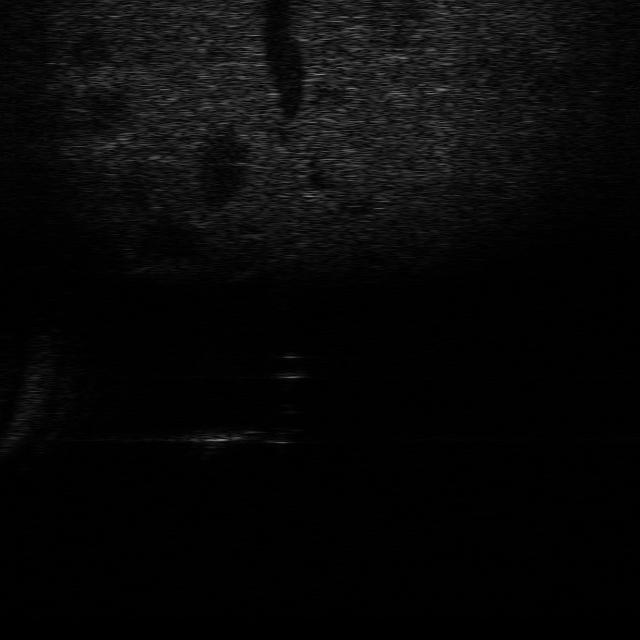ball: (256, 344, 315, 389)
square cage: (170, 421, 266, 459)
tyre: (252, 398, 310, 452)
